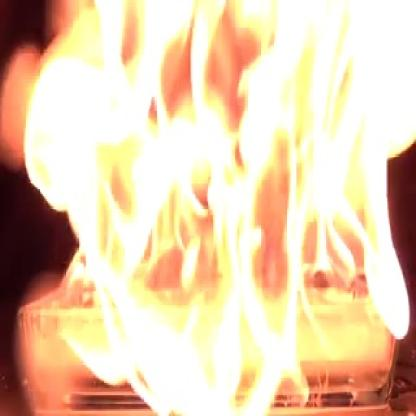fire: (18, 0, 416, 416)
